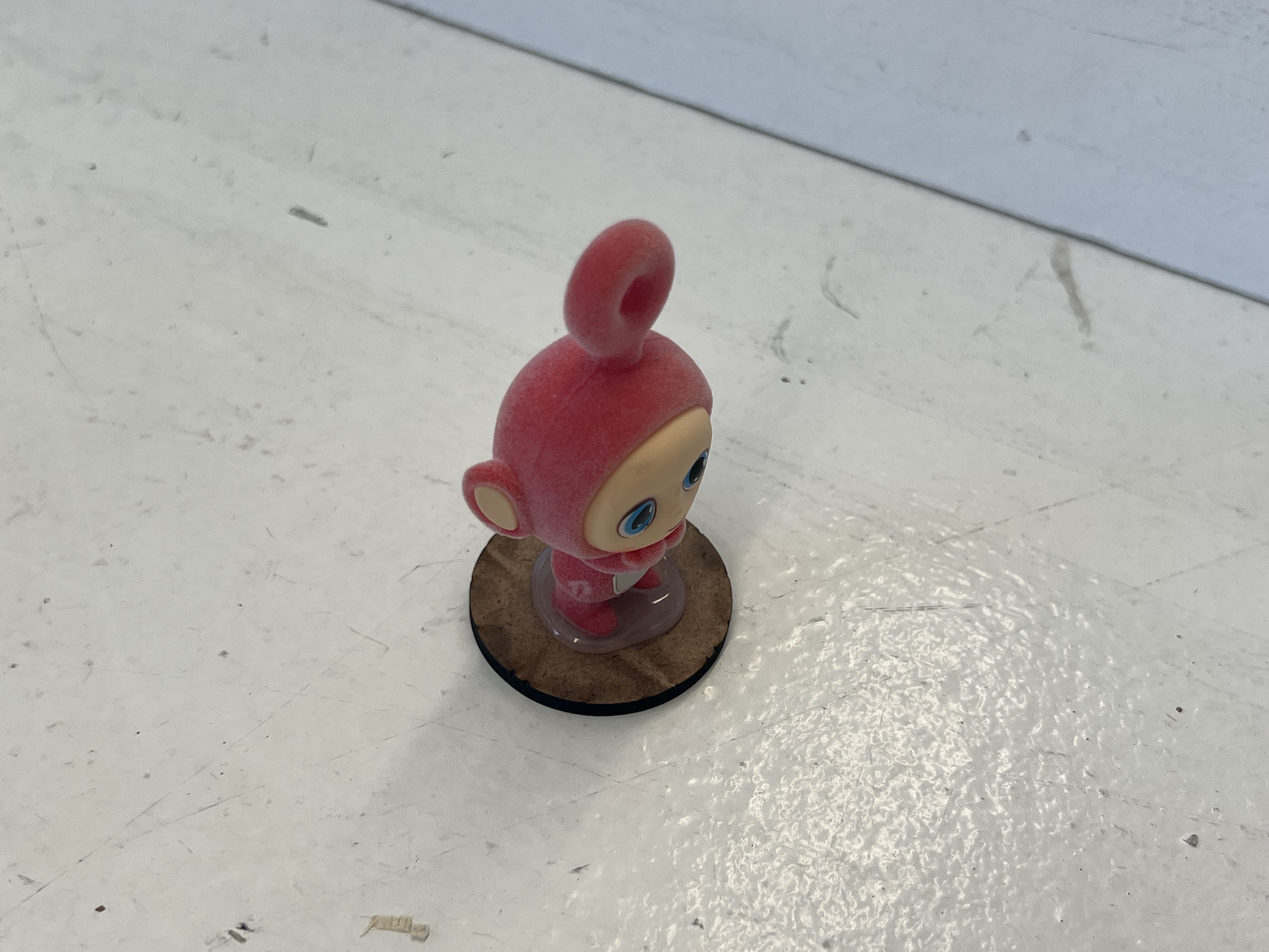teletubby: (463, 219, 712, 636)
